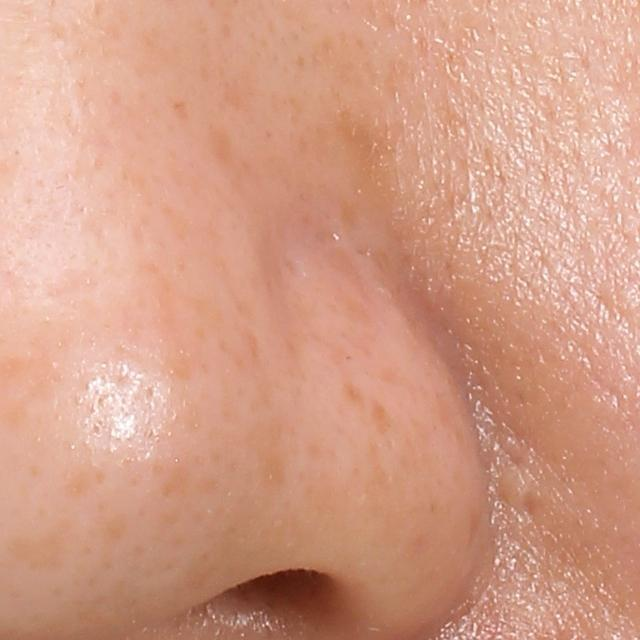melasma: (207, 129, 238, 167), (169, 99, 194, 122)
